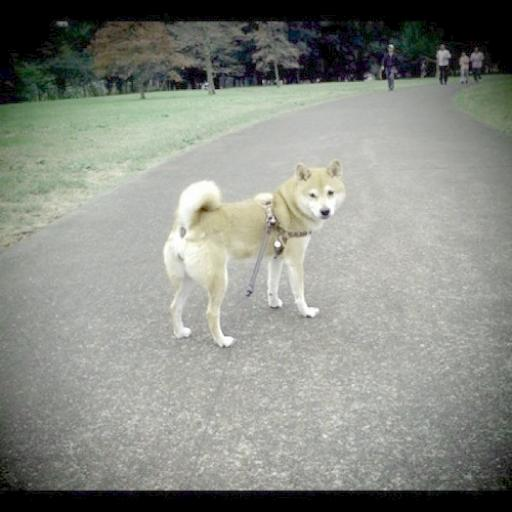dog_face: (290, 163, 348, 223)
